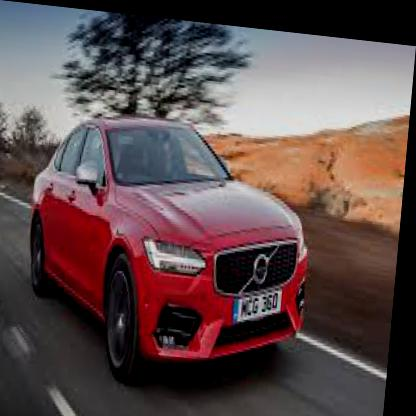Car: (24, 102, 323, 395)
